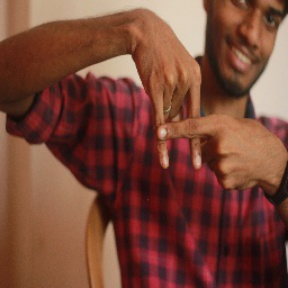H: (132, 74, 232, 177)
